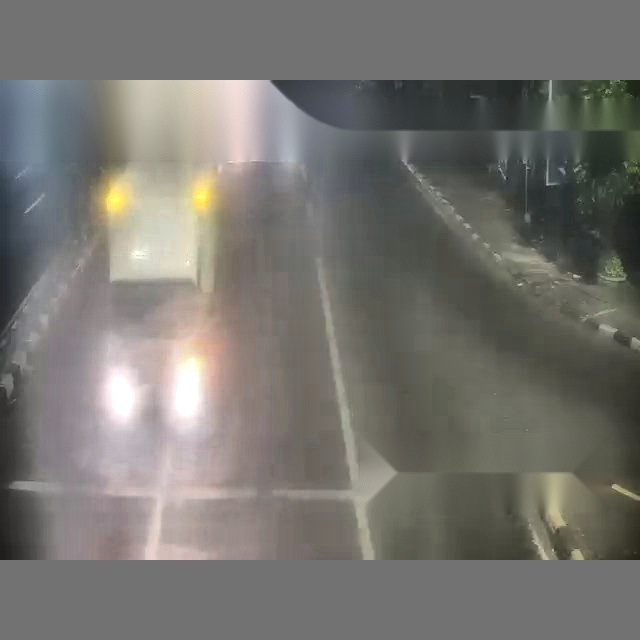Motor: (173, 356, 204, 424), (108, 366, 133, 423), (191, 170, 214, 221)
